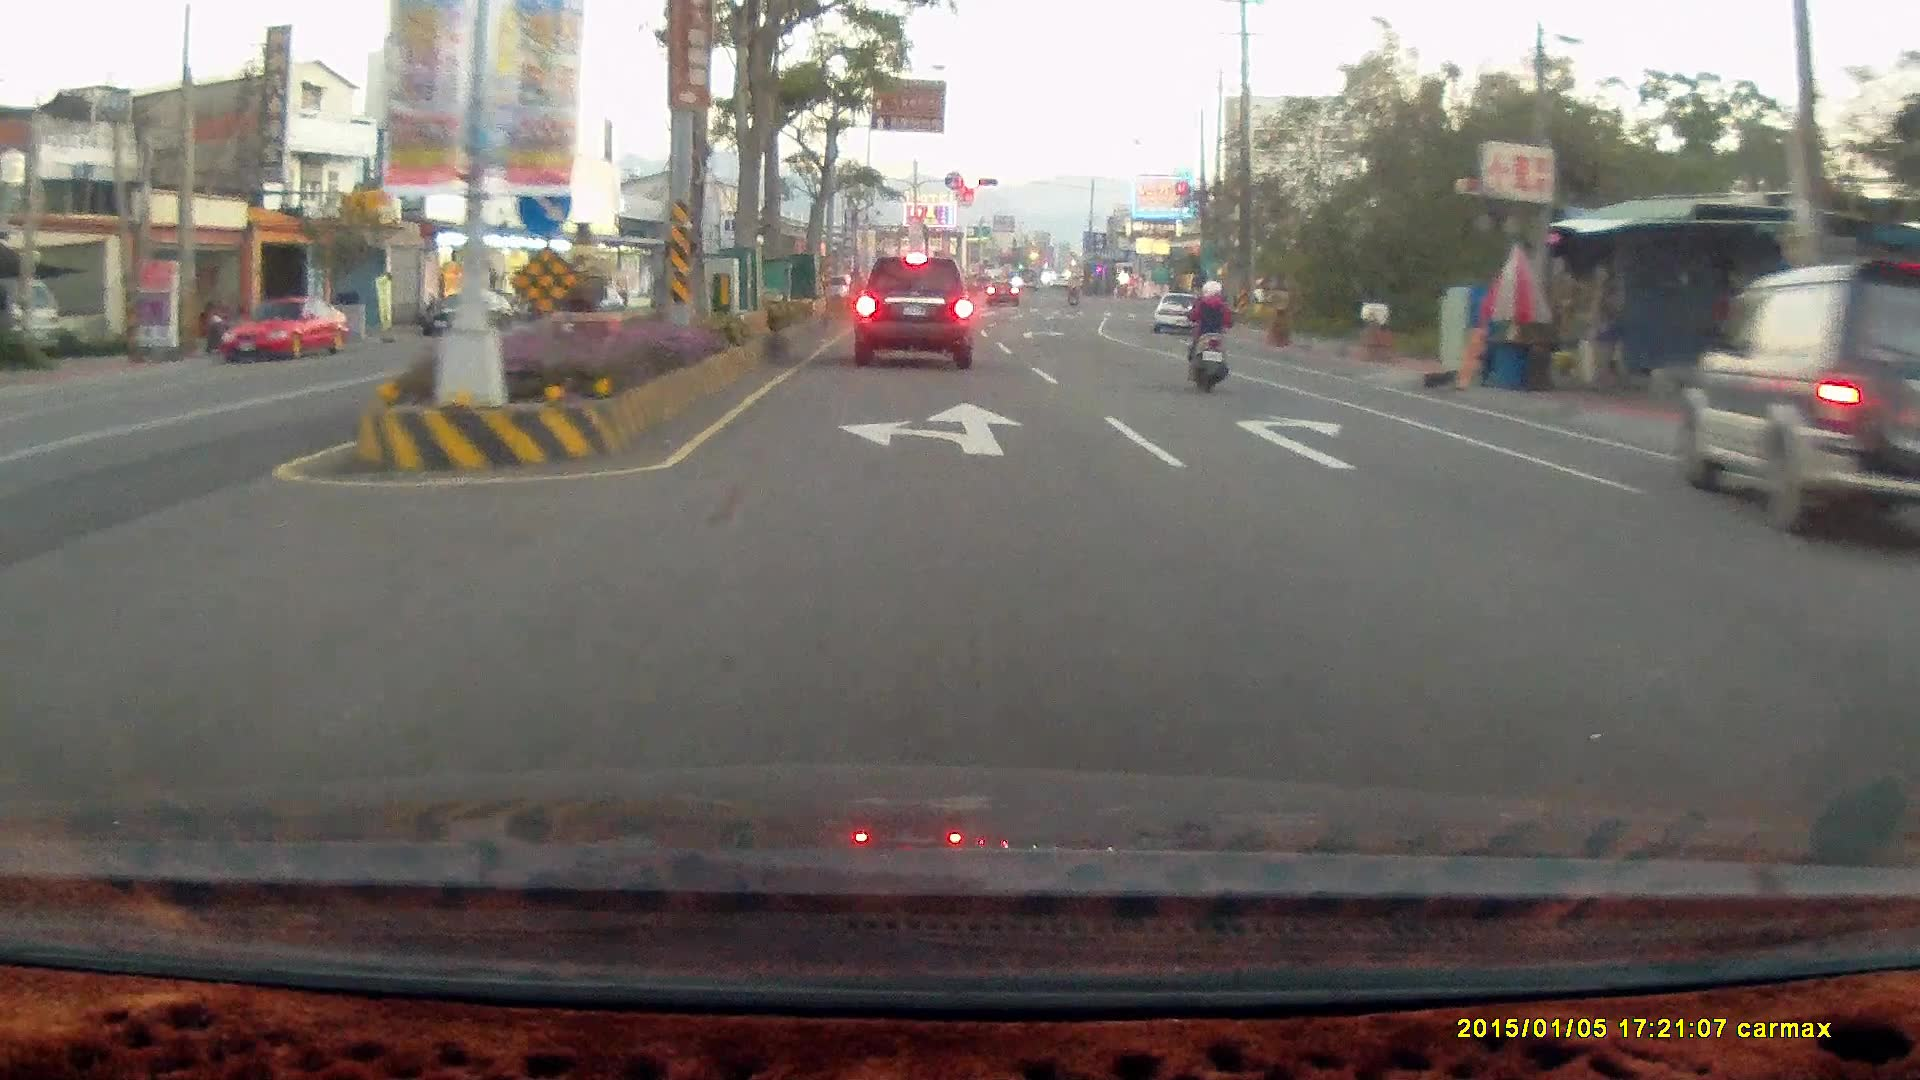rider: (1183, 277, 1231, 396)
vehicle: (1678, 265, 1920, 535), (1677, 265, 1919, 535), (852, 255, 971, 367), (220, 294, 353, 364), (221, 295, 354, 365), (1896, 493, 1920, 836), (1883, 528, 1920, 690), (424, 291, 520, 338), (1153, 292, 1209, 339), (1152, 292, 1208, 333)
